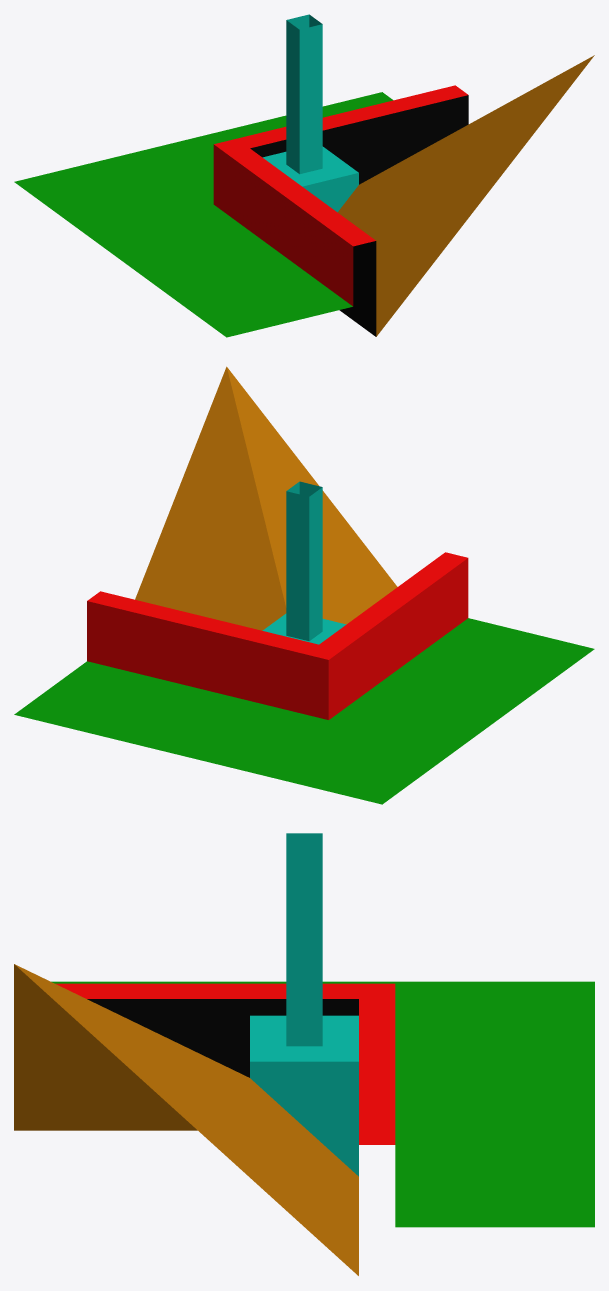
Rendered from None_W_S_E_E_W_W_E_E_BigStrut.fbx.
The picture shows the model from 3 angles, top to bottom: view 1: azimuth 30°, elevation 25°; view 2: azimuth 150°, elevation 25°; view 3: azimuth 270°, elevation 25°; orthographic projection. The views are drawn at different scales.
Parts seen in each view (by area): view 1: None_W_S_E_E_W_W_E_E_BigStrut; view 2: None_W_S_E_E_W_W_E_E_BigStrut; view 3: None_W_S_E_E_W_W_E_E_BigStrut.
Boxes of the visible parts, box(x1,y1,x2,y2) form: None_W_S_E_E_W_W_E_E_BigStrut: box(14, 14, 594, 337); None_W_S_E_E_W_W_E_E_BigStrut: box(14, 366, 594, 804); None_W_S_E_E_W_W_E_E_BigStrut: box(14, 833, 594, 1275).
Bounding box in the file's own units: 100 × 59.38 × 100.
